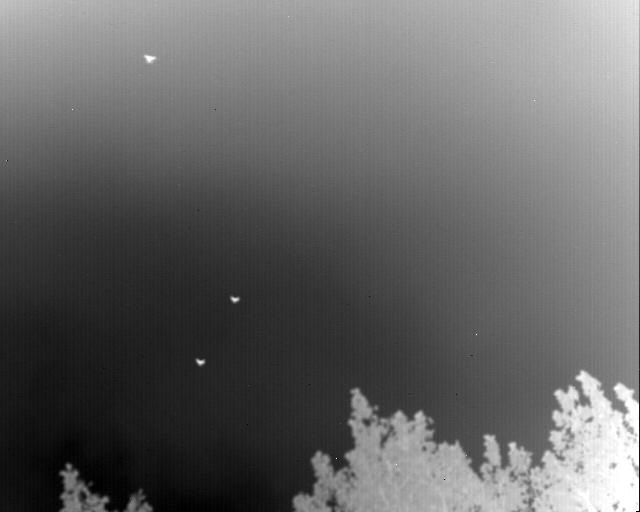plane: (195, 357, 206, 367), (144, 55, 156, 63), (230, 295, 240, 303)
